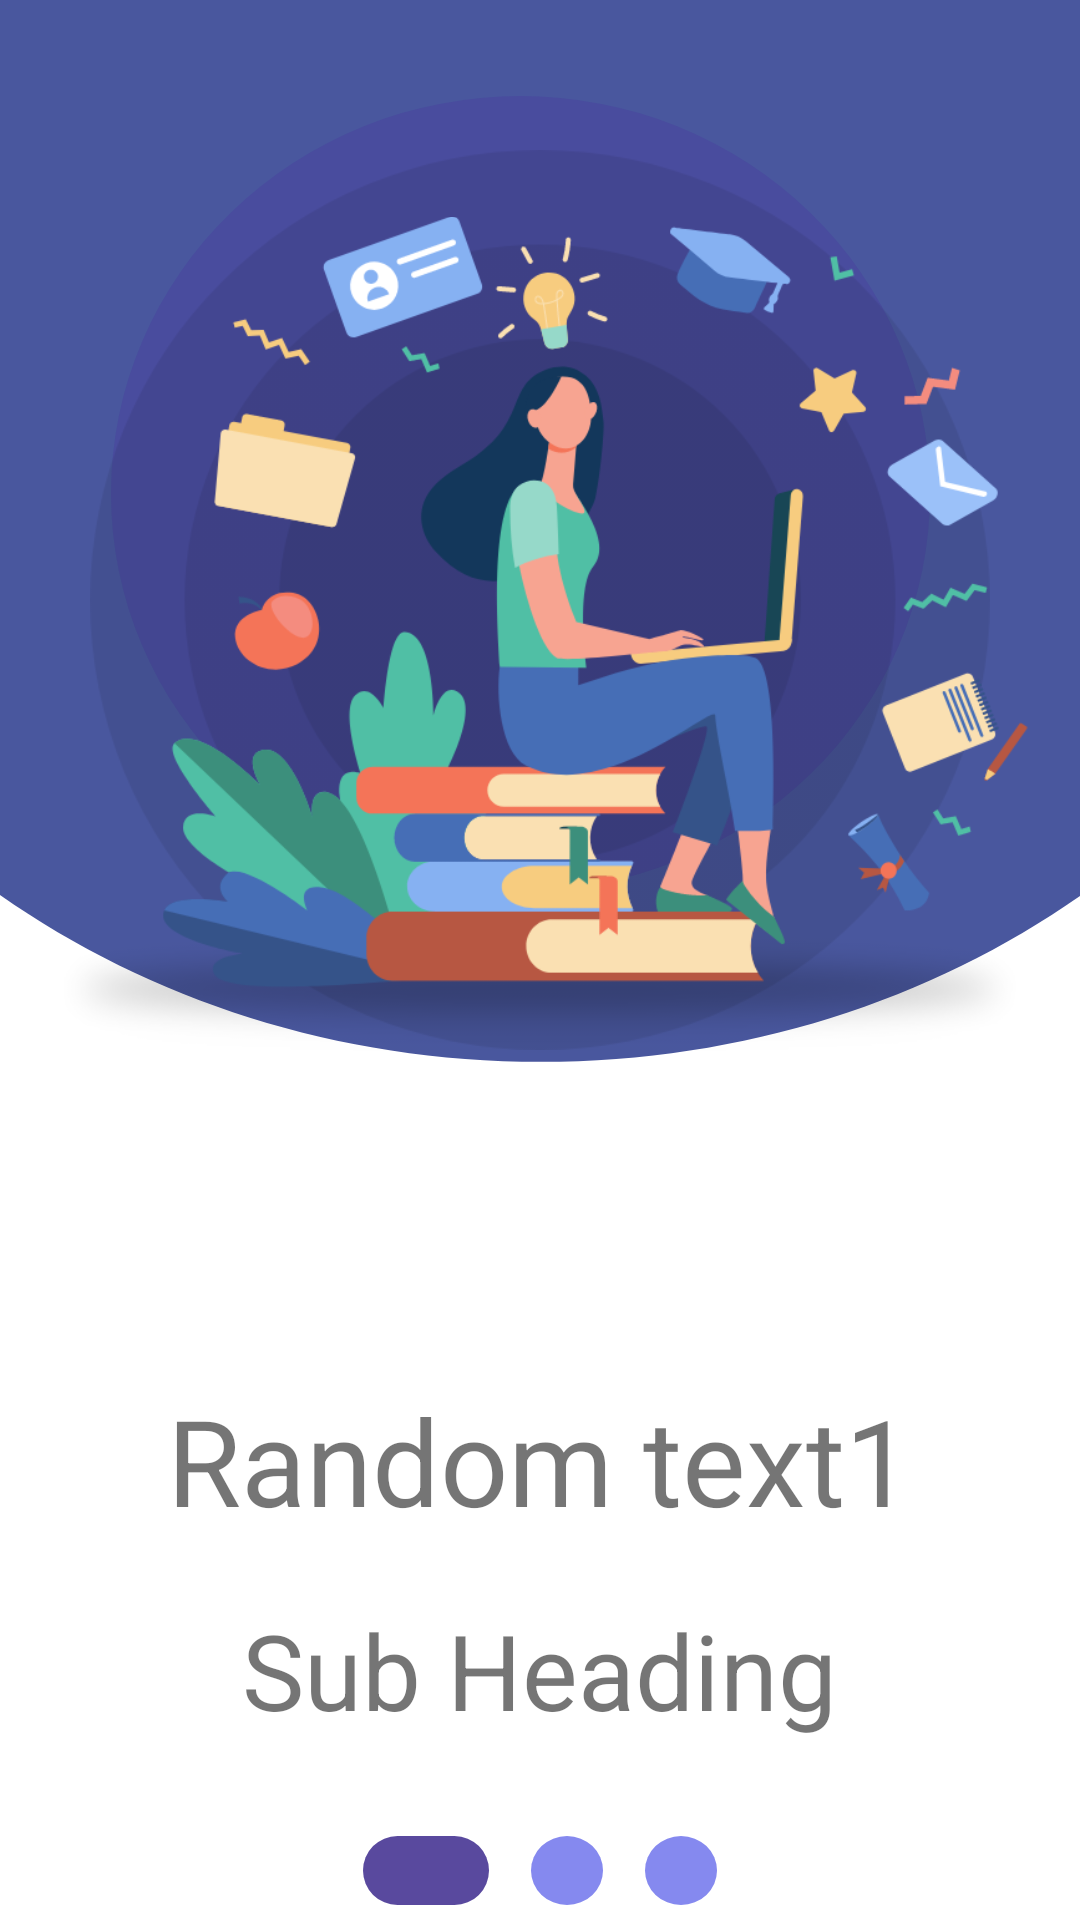

Screen size 1080 x 1920. Icon name, then its center in pixels as (x,y):
dots: (540,1870)
